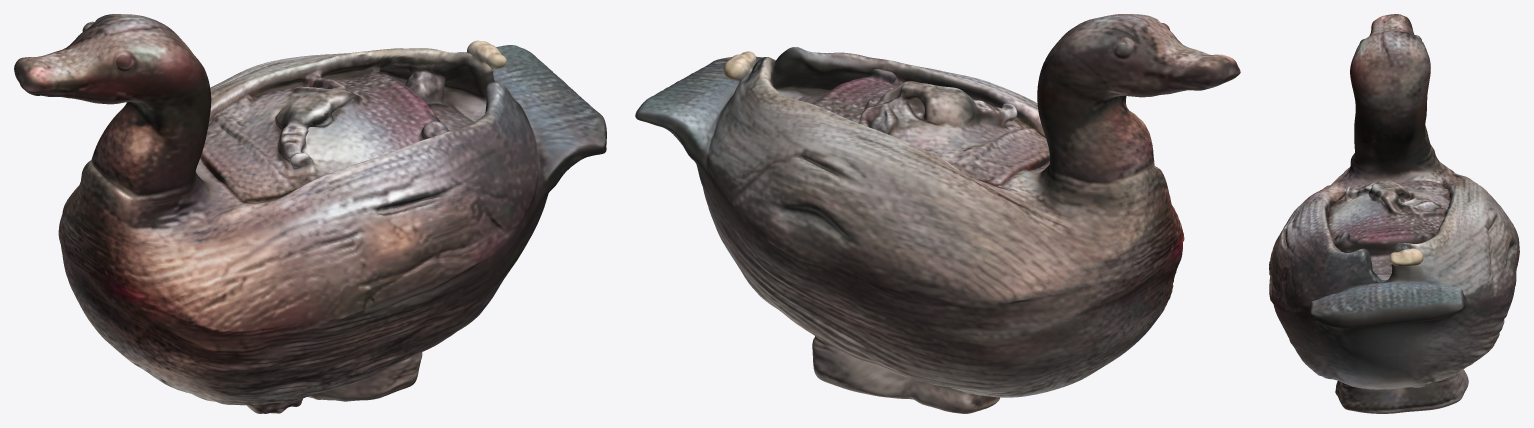
The model's file is mandarin-duck.glb.
3 renders of one model, left to right at view 1: azimuth 30°, elevation 25°; view 2: azimuth 150°, elevation 25°; view 3: azimuth 270°, elevation 25°, orthographic. The views are drawn at different scales.
Visible parts, largest first — view 1: mandarin-duck; view 2: mandarin-duck; view 3: mandarin-duck.
Part boxes in pixels (bbox=[...]): mandarin-duck: bbox=[14, 14, 606, 413]; mandarin-duck: bbox=[635, 14, 1240, 413]; mandarin-duck: bbox=[1269, 14, 1519, 413].
Bounding box in the file's own units: 0.3018 × 0.2132 × 0.1656.
1 material, 1 textured.
